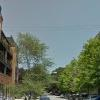Tree: (53, 24, 100, 99)
